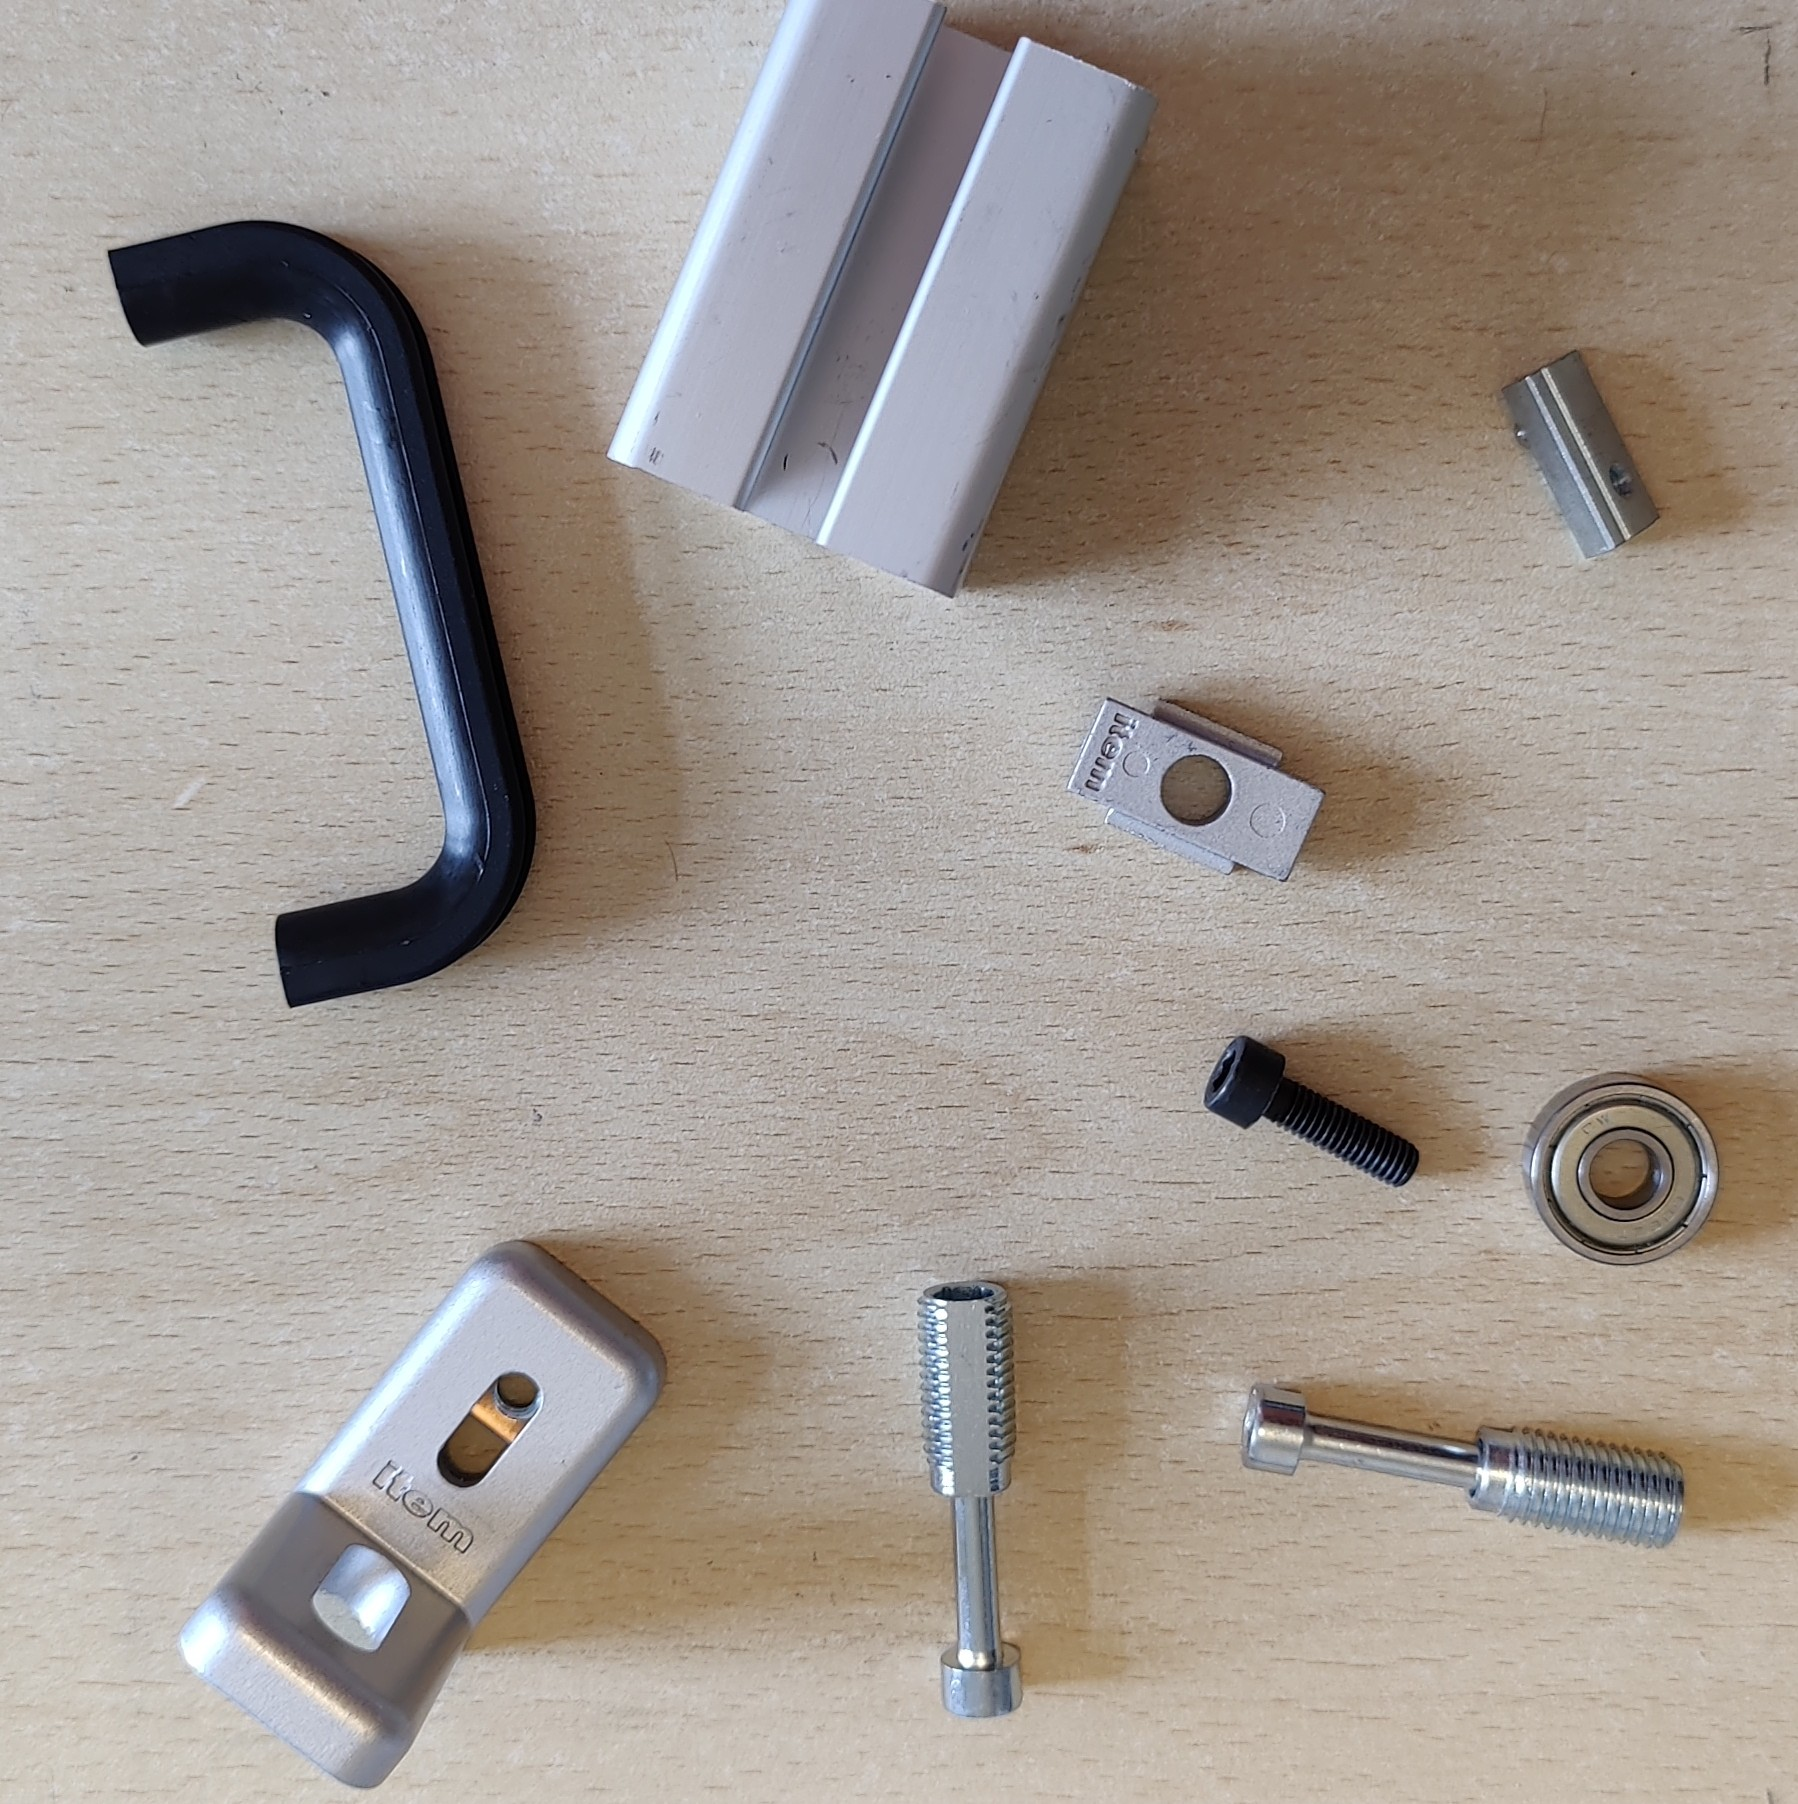Aluminium Extension: (604, 2, 1158, 599)
Ball Bearing: (1515, 1070, 1724, 1271)
Multiwinkel: (176, 1238, 670, 1792)
Pull Handle: (107, 216, 538, 1011)
Shoulder Socket Head Cap Screw: (1237, 1383, 1688, 1552), (914, 1276, 1026, 1722)
Socket Head Cap Screw: (1200, 1030, 1423, 1188)
T Nut Square: (1065, 691, 1329, 886)
T Spring Nut: (1498, 344, 1663, 561)
